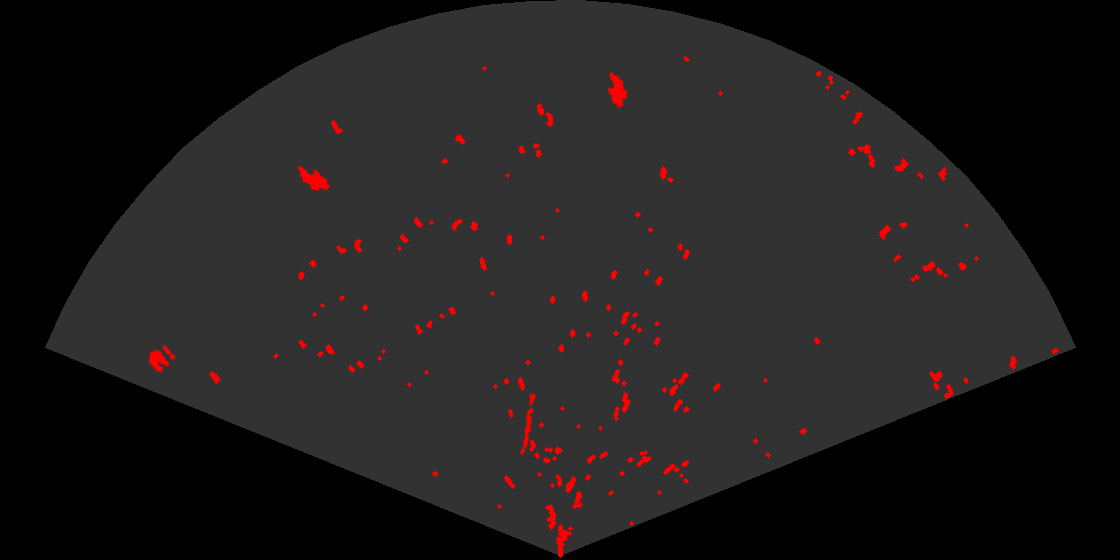AUV: (296, 164, 332, 193), (606, 70, 629, 110)
ball: (147, 344, 177, 374)
chain: (518, 392, 538, 457)
